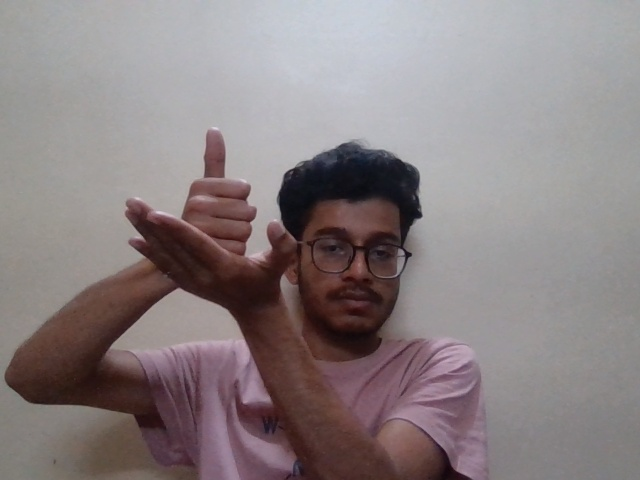help: (111, 124, 309, 315)
